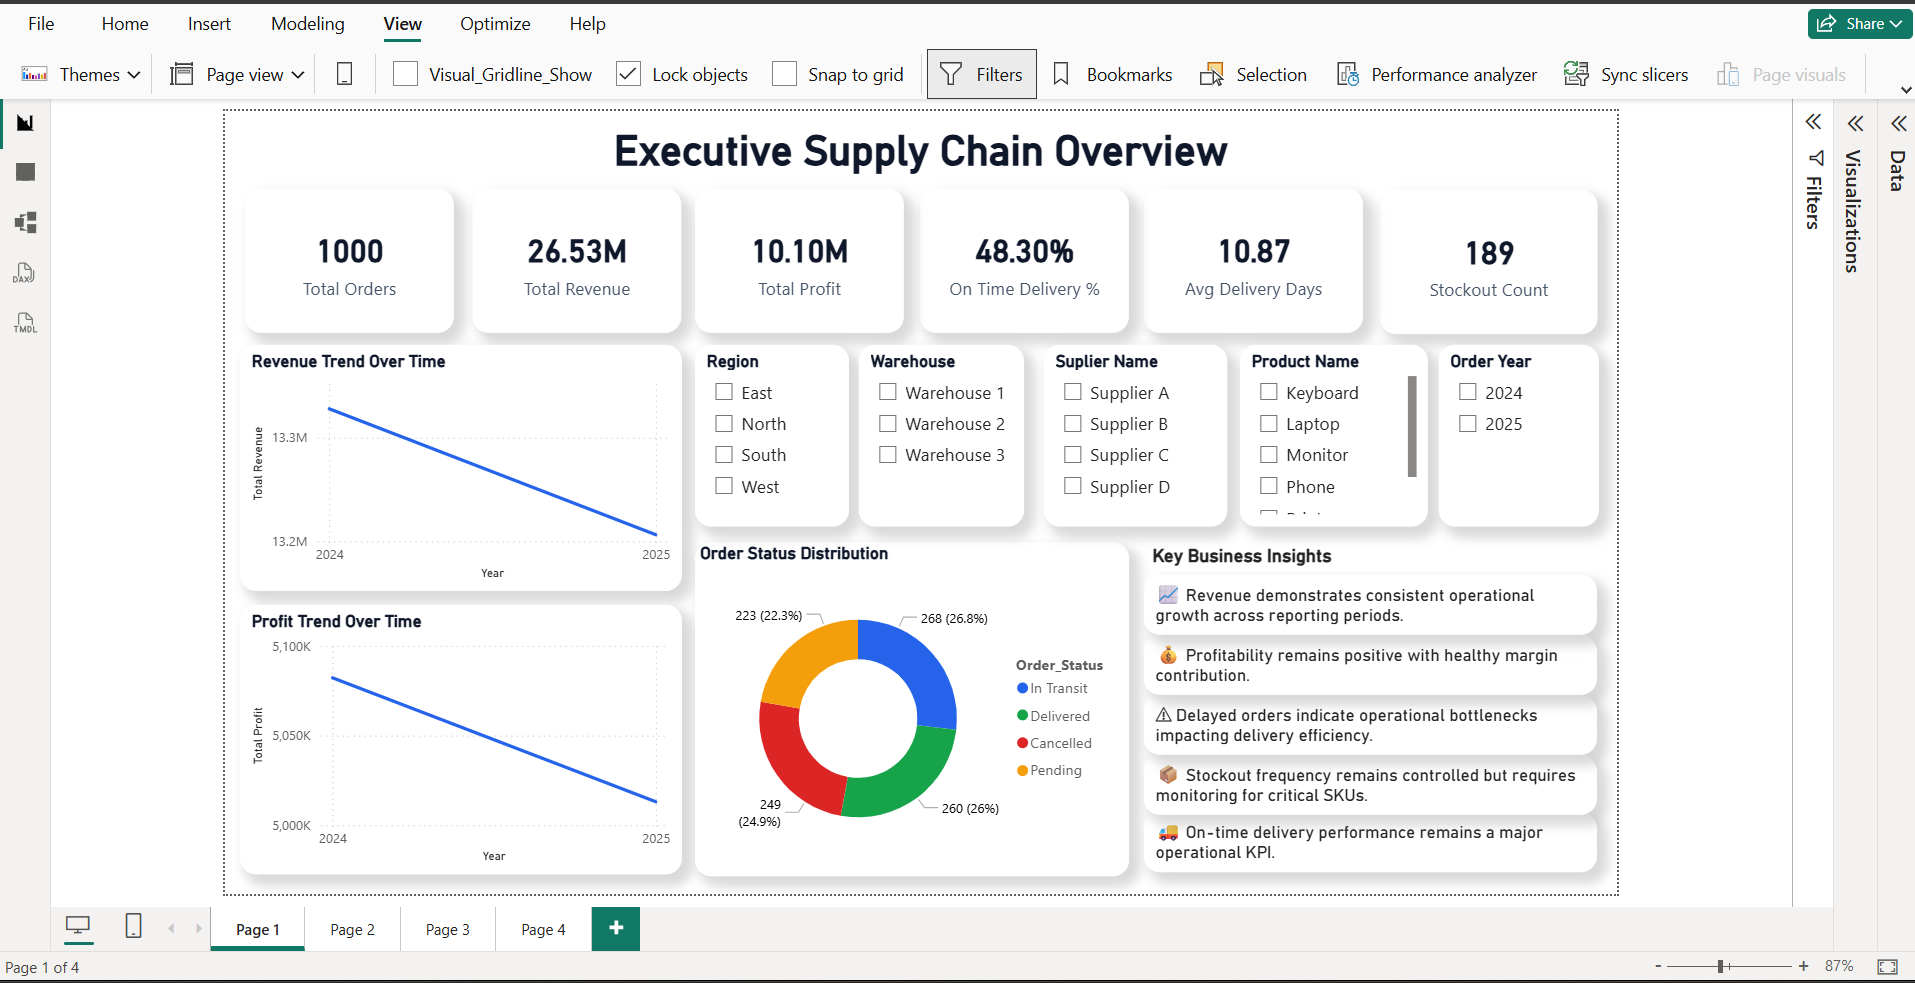

Layout of this report page (visuals, bound fields, positions):
{"tool":"powerbi","page":{"name":"Page 1","canvas":[1280,720],"ordinal":0},"visuals":[{"type":"textbox","title":"Executive Supply Chain Overview","box":[0,13.7,1280.3,45.3],"z":0},{"type":"card","fields":{"Values":["supply_chain_project supply_chain.Total Orders"]},"box":[17.8,71.4,192.1,133.1],"z":1},{"type":"card","fields":{"Values":["supply_chain_project supply_chain.Total Revenue"]},"box":[227.8,71.4,192.1,133.1],"z":2},{"type":"card","fields":{"Values":["supply_chain_project supply_chain.Stockout Count"]},"box":[1062.1,72.7,200.3,133.1],"z":3},{"type":"card","fields":{"Values":["supply_chain_project supply_chain.Avg Delivery Days"]},"box":[845.3,71.4,201.7,133.1],"z":4},{"type":"card","fields":{"Values":["supply_chain_project supply_chain.On Time Delivery %"]},"box":[639.5,71.4,192.1,133.1],"z":5},{"type":"card","fields":{"Values":["supply_chain_project supply_chain.Total Profit"]},"box":[432.2,71.4,192.1,133.1],"z":6},{"type":"lineChart","title":"Revenue Trend Over Time","fields":{"Category":["supply_chain_project supply_chain.Order_Date.Variation.Date Hierarchy.Year","supply_chain_project supply_chain.Order_Date.Variation.Date Hierarchy.Quarter","supply_chain_project supply_chain.Order_Date.Variation.Date Hierarchy.Month","supply_chain_project supply_chain.Order_Date.Variation.Date Hierarchy.Day"],"Y":["supply_chain_project supply_chain.Total Revenue"]},"box":[13.7,215.4,406.2,226.4],"z":7},{"type":"lineChart","title":"Profit Trend Over Time","fields":{"Category":["supply_chain_project supply_chain.Order_Date.Variation.Date Hierarchy.Year","supply_chain_project supply_chain.Order_Date.Variation.Date Hierarchy.Quarter","supply_chain_project supply_chain.Order_Date.Variation.Date Hierarchy.Month","supply_chain_project supply_chain.Order_Date.Variation.Date Hierarchy.Day"],"Y":["supply_chain_project supply_chain.Total Profit"]},"box":[13.7,454.2,406.2,248.4],"z":8},{"type":"donutChart","title":"Order Status Distribution","fields":{"Category":["supply_chain_project supply_chain.Order_Status"],"Y":["CountNonNull(supply_chain_project supply_chain.Order_ID)"]},"box":[432.2,396.6,399.3,307.4],"z":9},{"type":"slicer","title":"Region","fields":{"Values":["supply_chain_project supply_chain.Region"]},"box":[432.2,215.4,141.3,167.4],"z":10},{"type":"slicer","title":"Warehouse","fields":{"Values":["supply_chain_project supply_chain.Warehouse"]},"box":[583.2,215.4,152.3,167.4],"z":11},{"type":"slicer","title":"Suplier Name","fields":{"Values":["supply_chain_project supply_chain.Supplier_Name"]},"box":[753.3,215.4,168.8,167.4],"z":12},{"type":"slicer","title":"Product Name","fields":{"Values":["supply_chain_project supply_chain.Product_Name"]},"box":[933.1,215.4,172.9,167.4],"z":13},{"type":"slicer","title":"Order Year","fields":{"Values":["supply_chain_project supply_chain.Order_Year"]},"box":[1115.6,215.4,146.8,167.4],"z":14},{"type":"textbox","title":"Key Business Insights","box":[845.3,396.6,417.2,303.3],"z":15},{"type":"textbox","title":"🚚 On-time delivery performance remains a major operational KPI.","box":[845.3,644.9,417.2,54.9],"z":20},{"type":"textbox","title":"📦 Stockout frequency remains controlled but requires monitoring for critical SKUs.","box":[845.3,591.4,417.2,54.9],"z":21},{"type":"textbox","title":"⚠ Delayed orders indicate operational bottlenecks impacting delivery efficiency.","box":[845.3,536.5,417.2,54.9],"z":22},{"type":"textbox","title":"💰 Profitability remains positive with healthy margin contribution.","box":[845.3,481.6,417.2,54.9],"z":23},{"type":"textbox","title":"📈 Revenue demonstrates consistent operational growth across reporting periods.","box":[845.3,426.8,417.2,54.9],"z":24}]}

Visuals, with their boxes on the page's 1280x720 design canvas (x1, y1, x2, y2). These are canvas units, not pixel positions in the 1915x983 screenshot, which may show the page scaled, cropped or inside an application window:
"Executive Supply Chain Overview" textbox: left=0, top=14, right=1280, bottom=59
card - supply_chain_project supply_chain.Total Orders: left=18, top=71, right=210, bottom=204
card - supply_chain_project supply_chain.Total Revenue: left=228, top=71, right=420, bottom=204
card - supply_chain_project supply_chain.Stockout Count: left=1062, top=73, right=1262, bottom=206
card - supply_chain_project supply_chain.Avg Delivery Days: left=845, top=71, right=1047, bottom=204
card - supply_chain_project supply_chain.On Time Delivery %: left=640, top=71, right=832, bottom=204
card - supply_chain_project supply_chain.Total Profit: left=432, top=71, right=624, bottom=204
"Revenue Trend Over Time" lineChart: left=14, top=215, right=420, bottom=442
"Profit Trend Over Time" lineChart: left=14, top=454, right=420, bottom=703
"Order Status Distribution" donutChart: left=432, top=397, right=832, bottom=704
"Region" slicer: left=432, top=215, right=574, bottom=383
"Warehouse" slicer: left=583, top=215, right=736, bottom=383
"Suplier Name" slicer: left=753, top=215, right=922, bottom=383
"Product Name" slicer: left=933, top=215, right=1106, bottom=383
"Order Year" slicer: left=1116, top=215, right=1262, bottom=383
"Key Business Insights" textbox: left=845, top=397, right=1262, bottom=700
"🚚 On-time delivery performance remains a major operational KPI." textbox: left=845, top=645, right=1262, bottom=700
"📦 Stockout frequency remains controlled but requires monitoring for critical SKUs." textbox: left=845, top=591, right=1262, bottom=646
"⚠ Delayed orders indicate operational bottlenecks impacting delivery efficiency." textbox: left=845, top=536, right=1262, bottom=591
"💰 Profitability remains positive with healthy margin contribution." textbox: left=845, top=482, right=1262, bottom=536
"📈 Revenue demonstrates consistent operational growth across reporting periods." textbox: left=845, top=427, right=1262, bottom=482
